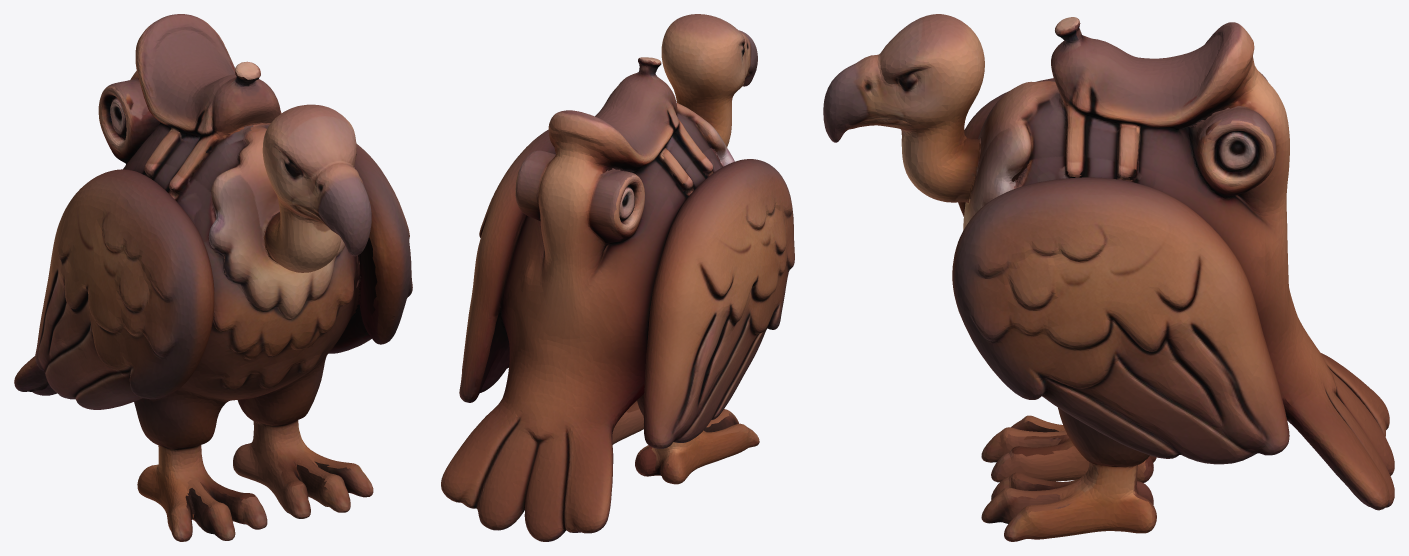
Rendered from buzzard_riderless.glb.
The picture shows the model from 3 angles, left to right: view 1: azimuth 30°, elevation 25°; view 2: azimuth 150°, elevation 25°; view 3: azimuth 270°, elevation 25°; orthographic projection. The views are drawn at different scales.
Visible parts, largest first — view 1: tmpyw0lmodb.ply; view 2: tmpyw0lmodb.ply; view 3: tmpyw0lmodb.ply.
Part boxes in pixels (bbox=[...]): tmpyw0lmodb.ply: bbox=[14, 14, 412, 541]; tmpyw0lmodb.ply: bbox=[441, 14, 794, 541]; tmpyw0lmodb.ply: bbox=[823, 14, 1394, 541].
Bounding box in the file's own units: 1.25 × 1.84 × 1.99.
1 material, 1 textured.
